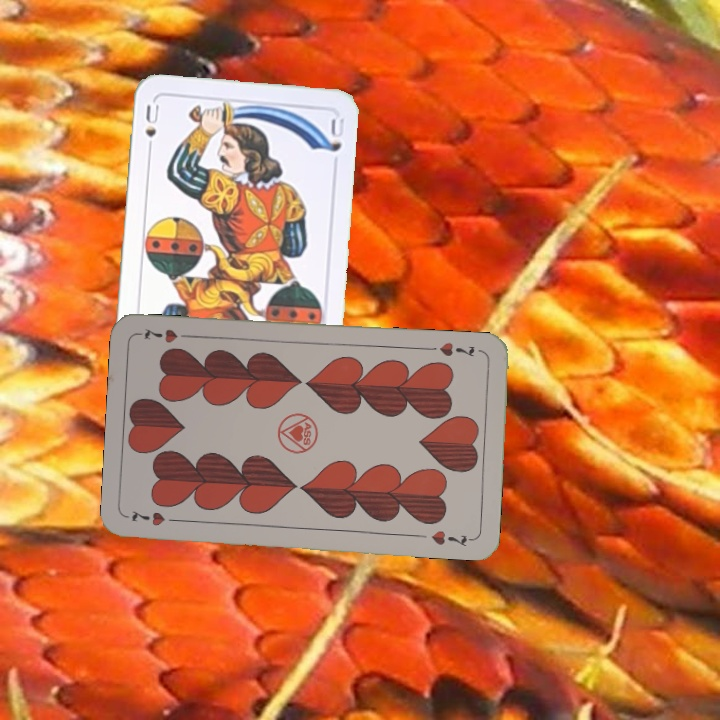H7: (128, 506, 184, 529), (424, 338, 478, 360)
SU: (141, 101, 162, 157)
